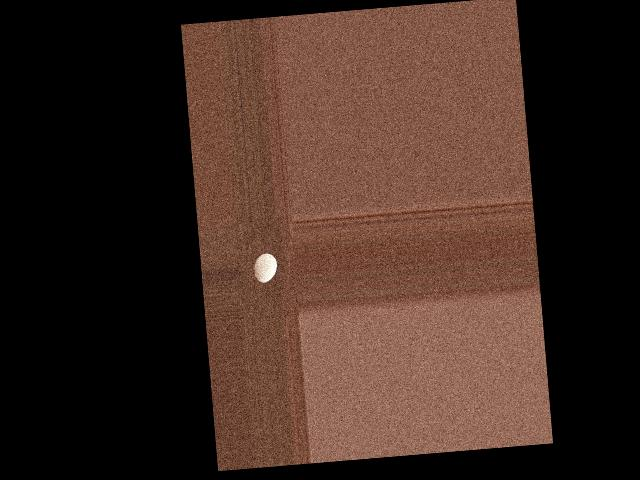egg: (252, 253, 277, 283)
